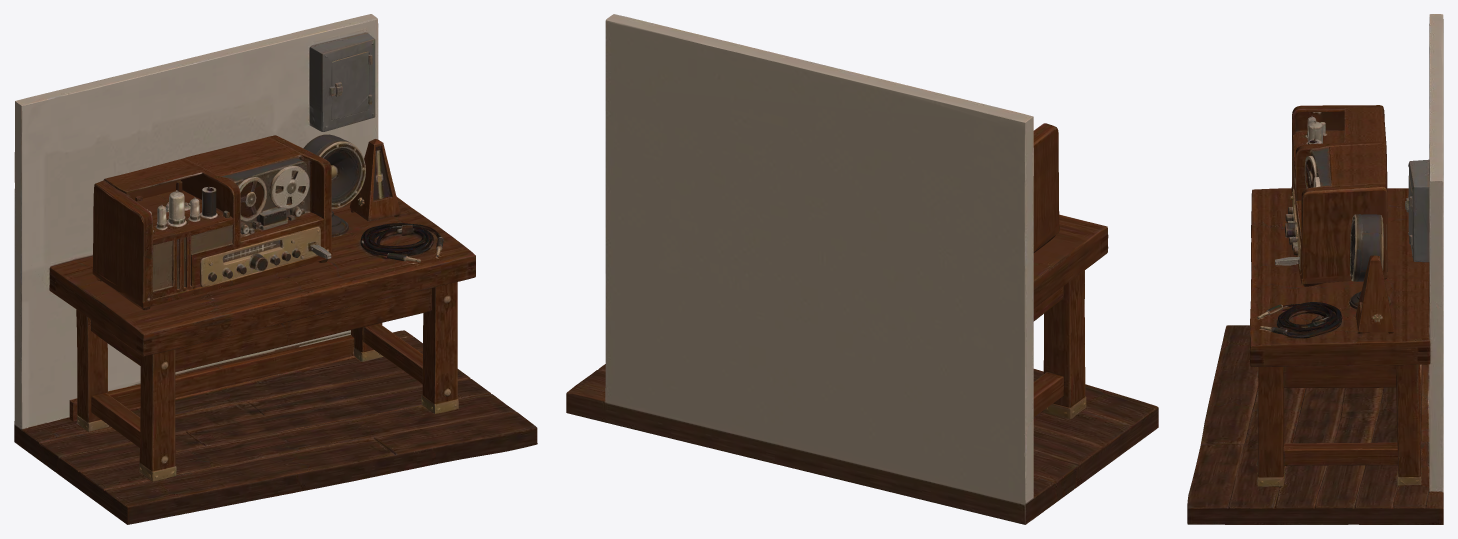
The picture shows the model from 3 angles, left to right: view 1: azimuth 30°, elevation 25°; view 2: azimuth 150°, elevation 25°; view 3: azimuth 270°, elevation 25°; orthographic projection. The views are drawn at different scales.
Visible parts, largest first — view 1: escala_real; view 2: escala_real; view 3: escala_real.
Part boxes in pixels (x1,y1,x2,y2): escala_real: [14, 14, 537, 524]; escala_real: [566, 14, 1158, 524]; escala_real: [1187, 14, 1443, 524].
Bounding box in the file's own units: 1.9 × 1.59 × 1.13.
Materials: 1 (1 with a texture image).
